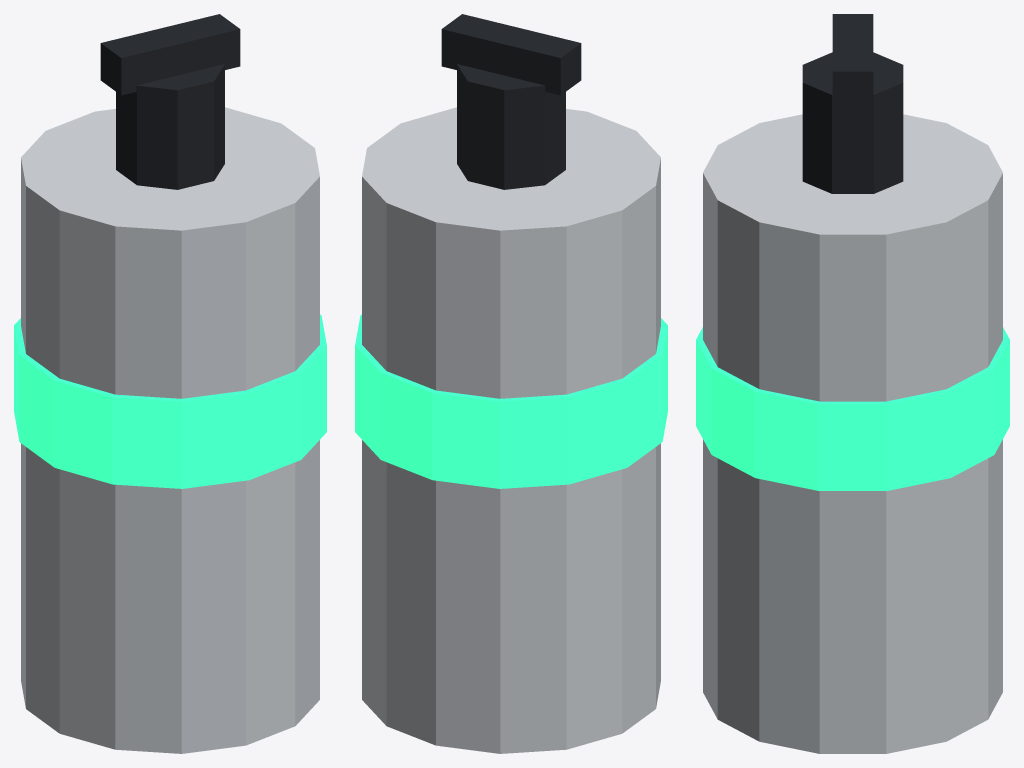
The model's file is oxygen-canister.glb.
The picture shows the model from 3 angles, left to right: view 1: azimuth 30°, elevation 25°; view 2: azimuth 150°, elevation 25°; view 3: azimuth 270°, elevation 25°; orthographic projection.
Parts seen in each view (by area): view 1: oxygen-canister; view 2: oxygen-canister; view 3: oxygen-canister.
Boxes of the visible parts, box(x1,y1,x2,y2) form: oxygen-canister: box(14, 14, 326, 753); oxygen-canister: box(355, 14, 667, 753); oxygen-canister: box(696, 14, 1009, 753).
Bounding box in the file's own units: 0.2242 × 0.525 × 0.23.
